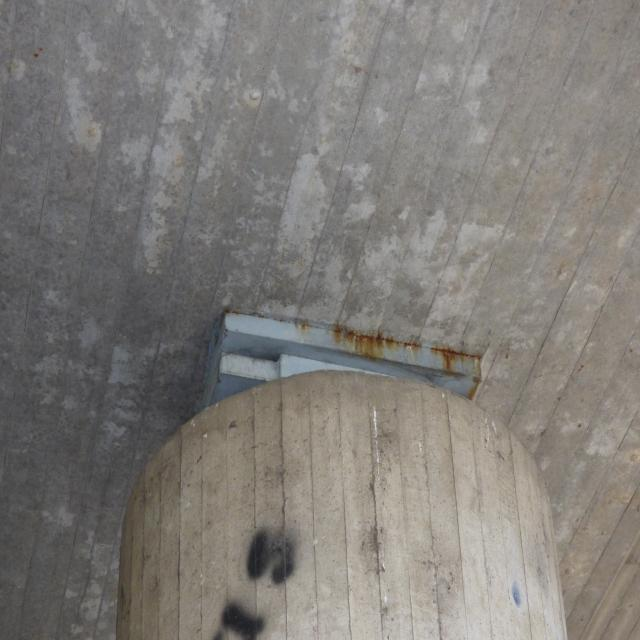corrosion: (204, 305, 516, 408), (578, 363, 585, 374), (577, 422, 583, 432)
